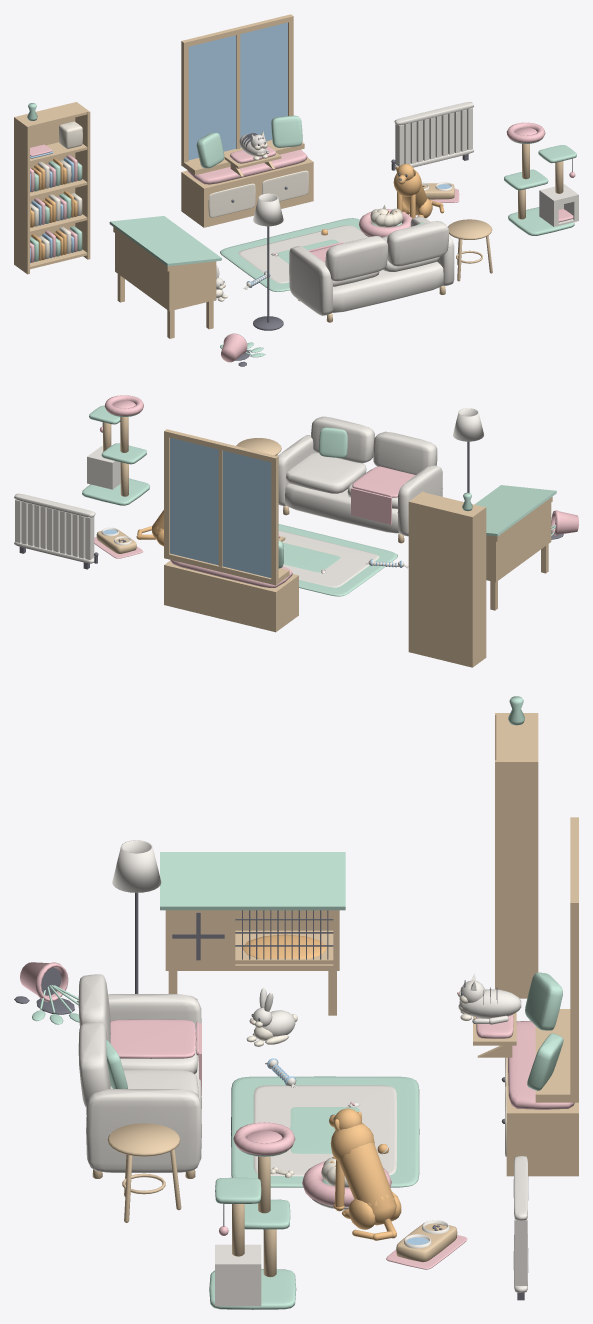
File: companion-animals-and-pet-home-living-ro-5dbc8e73-starter-scene__20683.glb
3 views of the same model, one above another, from view 1: azimuth 30°, elevation 25°; view 2: azimuth 150°, elevation 25°; view 3: azimuth 270°, elevation 25° (orthographic). The views are drawn at different scales.
Parts seen in each view (by area): view 1: 005-sofa-with-blanket/0, 000-window-seat/4, 004-bookshelf/0, 000-window-seat/0, 011-hutch/0, 003-radiator/0, 011-hutch/3, 000-window-seat/1, 008-rug/1, 013-cat-tree/0, 008-rug/0, 000-window-seat/5 (+17 smaller); view 2: 004-bookshelf/0, 000-window-seat/4, 005-sofa-with-blanket/0, 000-window-seat/0, 003-radiator/0, 011-hutch/0, 008-rug/0, 008-rug/1, 005-sofa-with-blanket/2, 011-hutch/3, 013-cat-tree/0, 013-cat-tree/2 (+9 smaller); view 3: 005-sofa-with-blanket/0, 004-bookshelf/0, 011-hutch/3, 000-window-seat/0, 011-hutch/0, 008-rug/0, 008-rug/1, 010-dog-retriever-sit/0, 013-cat-tree/0, 005-sofa-with-blanket/2, 006-side-table/0, 000-window-seat/5 (+15 smaller).
Part boxes in pixels (box(x1,y1,x2,y2)): 005-sofa-with-blanket/0: box(289, 216, 454, 315); 000-window-seat/4: box(188, 22, 287, 160); 004-bookshelf/0: box(14, 102, 90, 274); 000-window-seat/0: box(181, 14, 313, 227); 011-hutch/0: box(113, 227, 216, 338); 003-radiator/0: box(394, 102, 473, 169); 011-hutch/3: box(109, 216, 221, 266); 000-window-seat/1: box(208, 170, 308, 217); 008-rug/1: box(238, 225, 368, 283); 013-cat-tree/0: box(504, 139, 576, 235); 008-rug/0: box(220, 218, 360, 291); 000-window-seat/5: box(196, 115, 302, 168); 004-bookshelf/0: box(408, 491, 486, 667); 000-window-seat/4: box(170, 437, 271, 577); 005-sofa-with-blanket/0: box(278, 416, 442, 536); 000-window-seat/0: box(164, 429, 298, 632); 003-radiator/0: box(14, 493, 95, 563); 011-hutch/0: box(486, 496, 552, 610); 008-rug/0: box(278, 524, 397, 596); 008-rug/1: box(278, 530, 379, 587); 005-sofa-with-blanket/2: box(351, 466, 415, 524); 011-hutch/3: box(474, 485, 556, 536); 013-cat-tree/0: box(82, 405, 149, 505); 013-cat-tree/2: box(87, 446, 120, 489); 005-sofa-with-blanket/0: box(78, 974, 201, 1172); 004-bookshelf/0: box(495, 713, 538, 998); 011-hutch/3: box(160, 852, 345, 910); 000-window-seat/0: box(506, 817, 578, 1176); 011-hutch/0: box(165, 910, 339, 1015); 008-rug/0: box(231, 1076, 419, 1187); 008-rug/1: box(253, 1085, 396, 1176); 010-dog-retriever-sit/0: box(329, 1108, 401, 1240); 013-cat-tree/0: box(209, 1147, 296, 1309); 005-sofa-with-blanket/2: box(110, 1019, 201, 1095); 006-side-table/0: box(107, 1123, 181, 1222); 000-window-seat/5: box(525, 972, 563, 1090).
Size of the model in its own units: 5.93 by 2.08 by 3.9.
